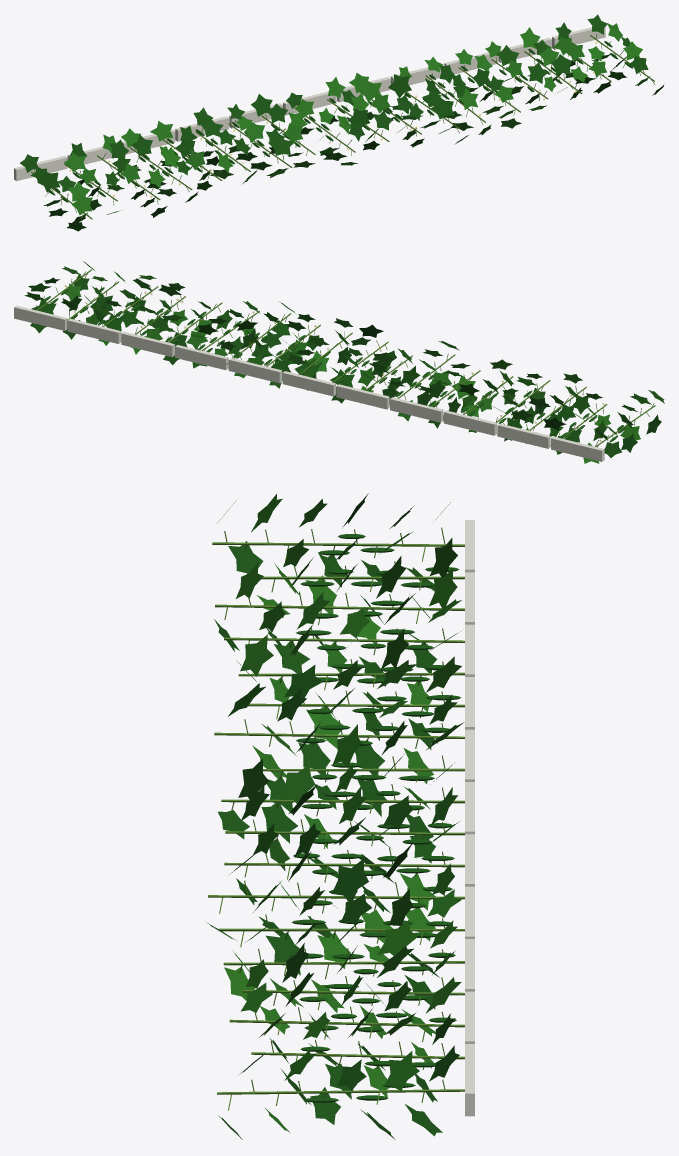
The model's file is row6.obj.
The picture shows the model from 3 angles, top to bottom: view 1: azimuth 30°, elevation 25°; view 2: azimuth 150°, elevation 25°; view 3: azimuth 270°, elevation 25°; orthographic projection. The views are drawn at different scales.
Parts seen in each view (by area): view 1: row6; view 2: row6; view 3: row6.
Boxes of the visible parts, bbox=[...] form: row6: bbox=[14, 14, 664, 231]; row6: bbox=[14, 261, 664, 463]; row6: bbox=[206, 493, 474, 1139].
Size of the model in its own units: 11.1 by 0.9124 by 2.18.
